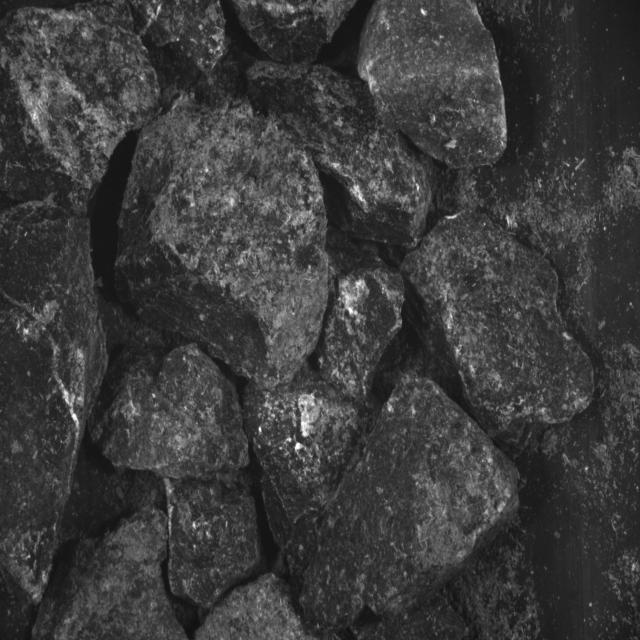Stones: (116, 104, 329, 389), (302, 378, 520, 629), (245, 237, 405, 577), (402, 213, 595, 452), (1, 205, 107, 604), (247, 63, 435, 248), (1, 4, 161, 215), (359, 1, 507, 169), (91, 344, 250, 480), (34, 509, 187, 640), (165, 472, 261, 609), (131, 1, 229, 91), (234, 1, 357, 64), (196, 574, 312, 640)
